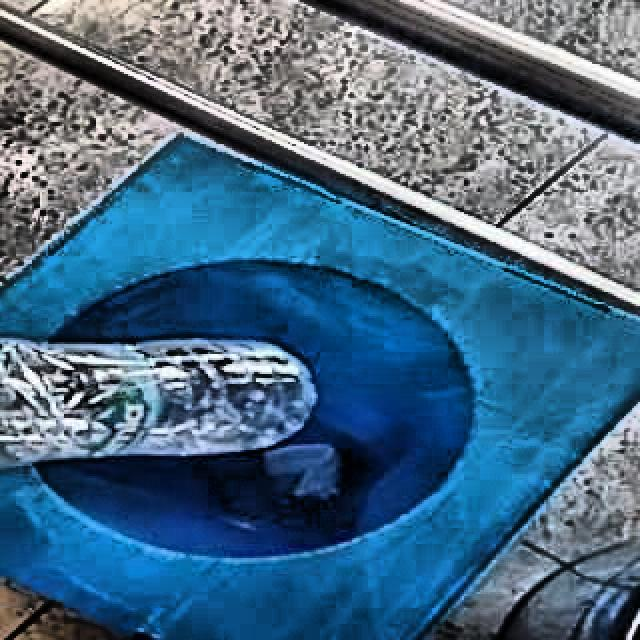plastic: (0, 341, 317, 470)
